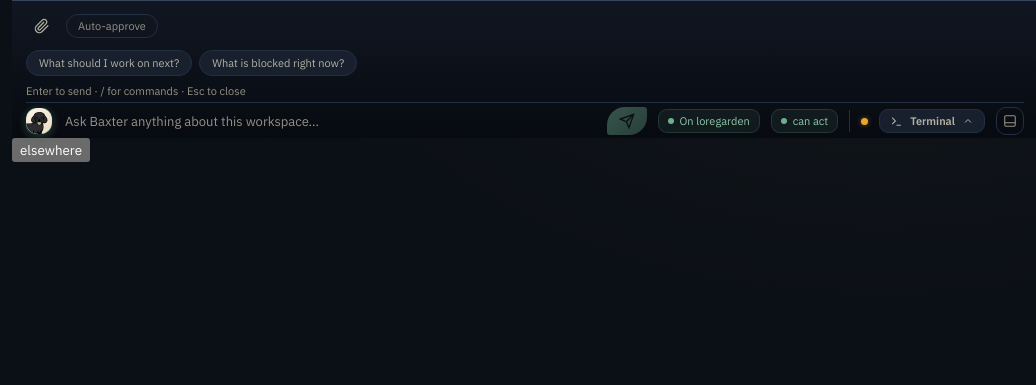
Test case: Escape with the / menu open closes the menu, and leaves the sheet open
Type "/" into the field named "Message this conversation" at (329, 121), box [63,112,596,130]
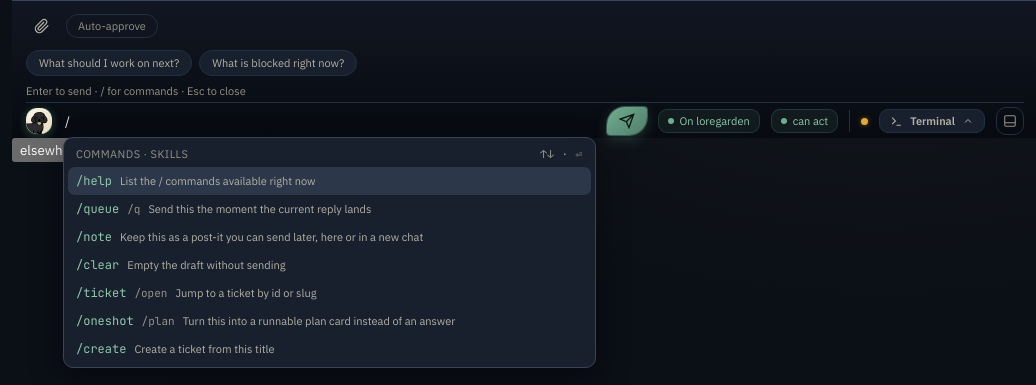
Result: the list is shown at [63,136,596,368]
Press Escape in the field named "Message this conversation", box [63,112,596,130]
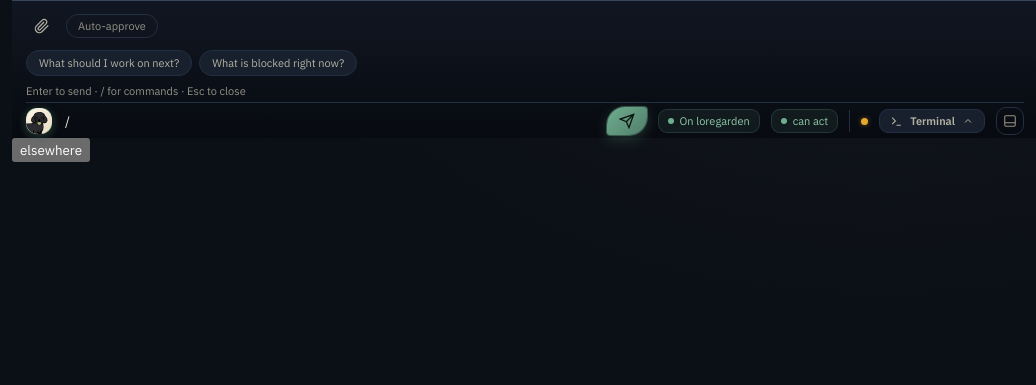
Expected: the element named "Conversation options" is shown, [26,4,1024,103]
Result: the list is gone
